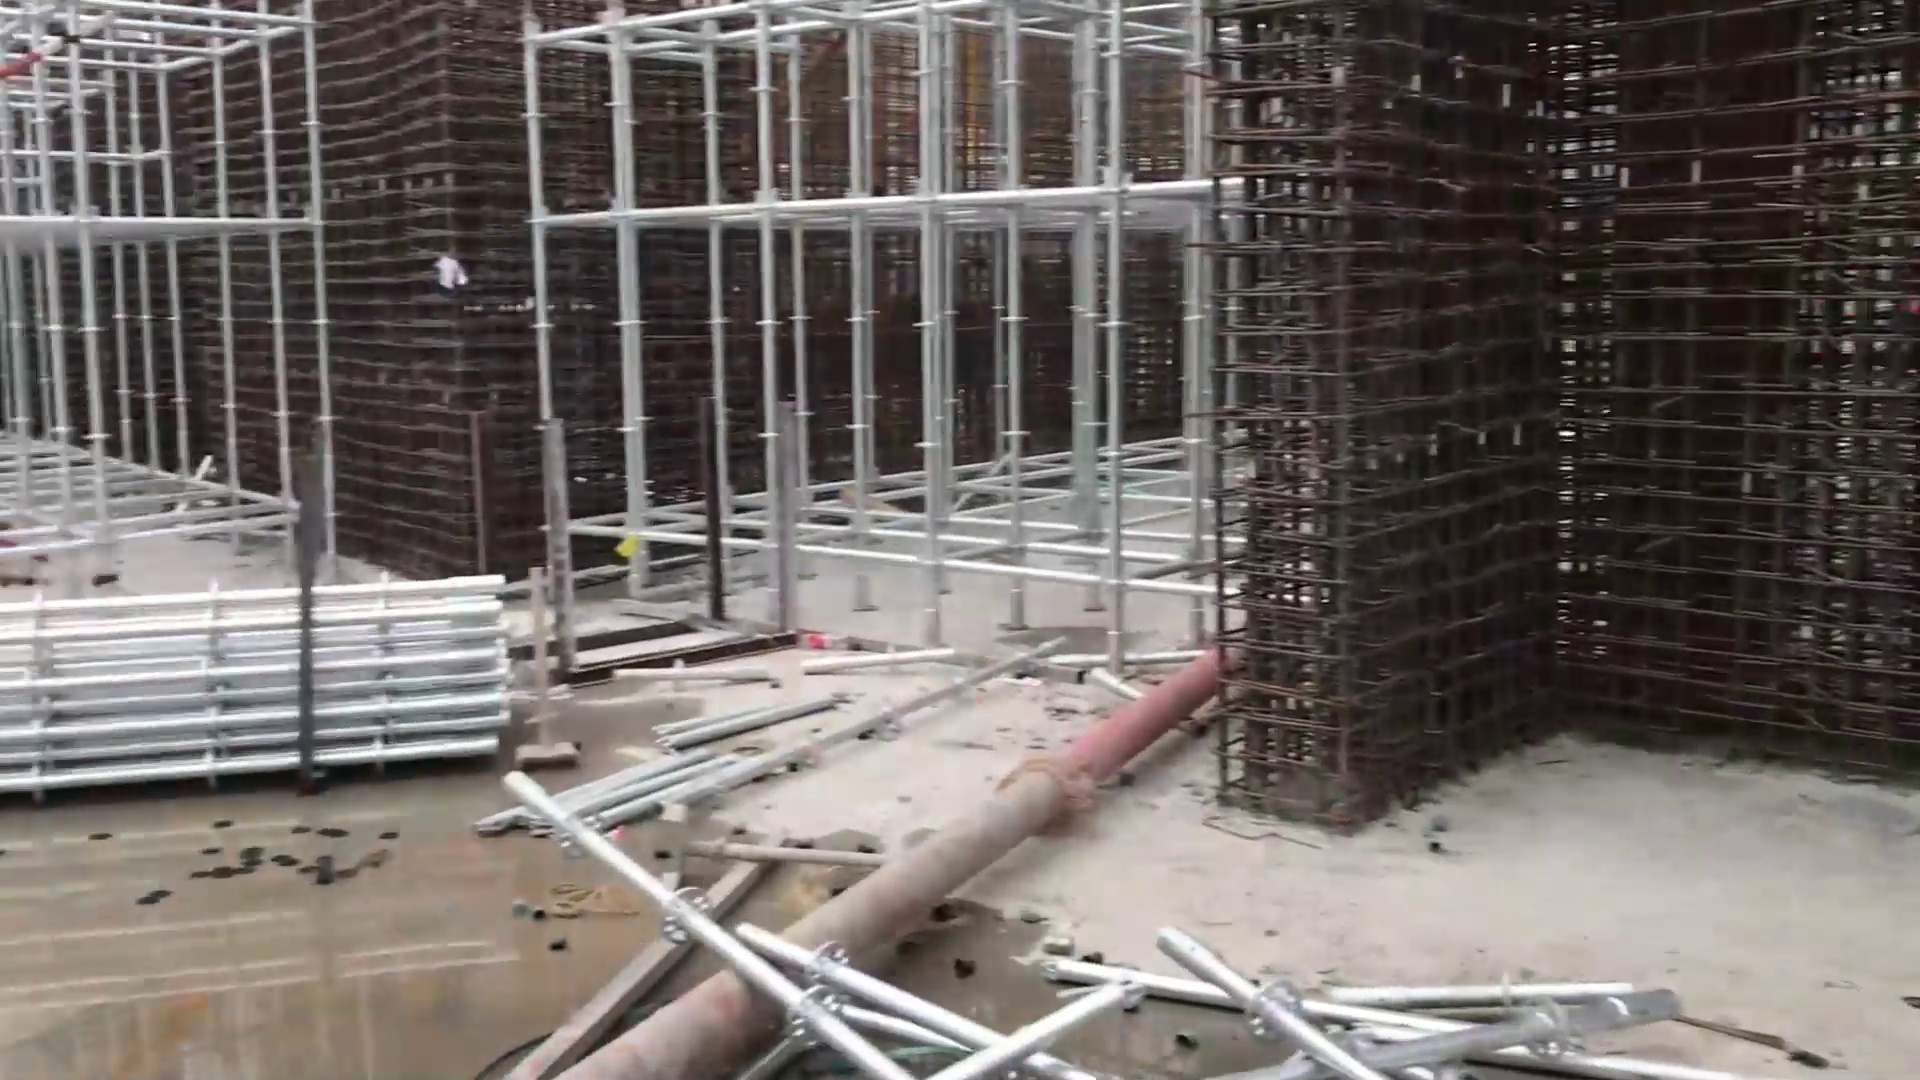scaffold: (7, 556, 521, 822)
